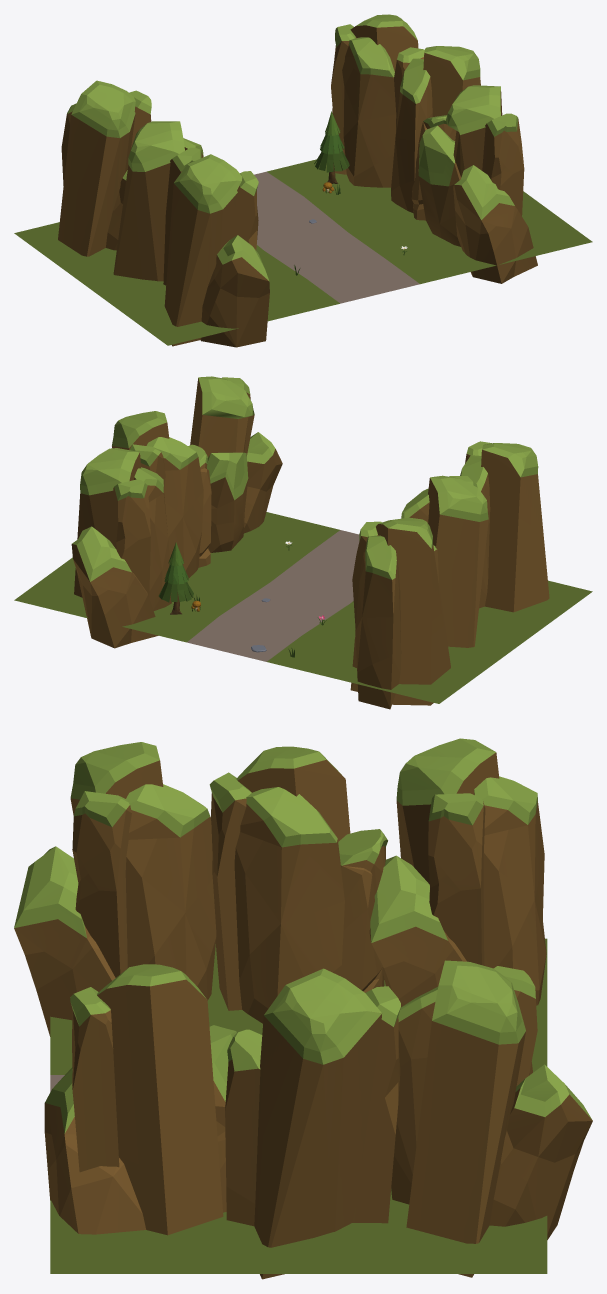
Rendered from RoadPart3.fbx.
3 views of the same model, one above another, from view 1: azimuth 30°, elevation 25°; view 2: azimuth 150°, elevation 25°; view 3: azimuth 270°, elevation 25° (orthographic). The views are drawn at different scales.
Visible parts, largest first — view 1: RoadPart3; view 2: RoadPart3; view 3: RoadPart3.
Part boxes in pixels (x1=…): RoadPart3: x1=14, y1=14, x2=592, y2=347; RoadPart3: x1=14, y1=376, x2=592, y2=709; RoadPart3: x1=14, y1=738, x2=592, y2=1279.
Bounding box in the file's own units: 3633 × 1383 × 2651.
